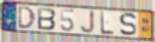5: (59, 9, 75, 33)
B: (37, 7, 57, 31)
D: (17, 5, 37, 30)
J: (79, 9, 95, 34)
L: (100, 11, 115, 36)
S: (118, 12, 138, 37)
